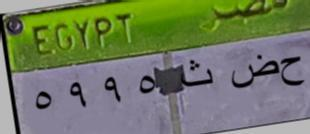5: (33, 87, 56, 113), (135, 72, 156, 99)
7aa: (280, 54, 307, 88)
9: (65, 78, 88, 117), (99, 74, 122, 110)
daad: (227, 50, 278, 92)
thaa: (177, 56, 214, 93)
